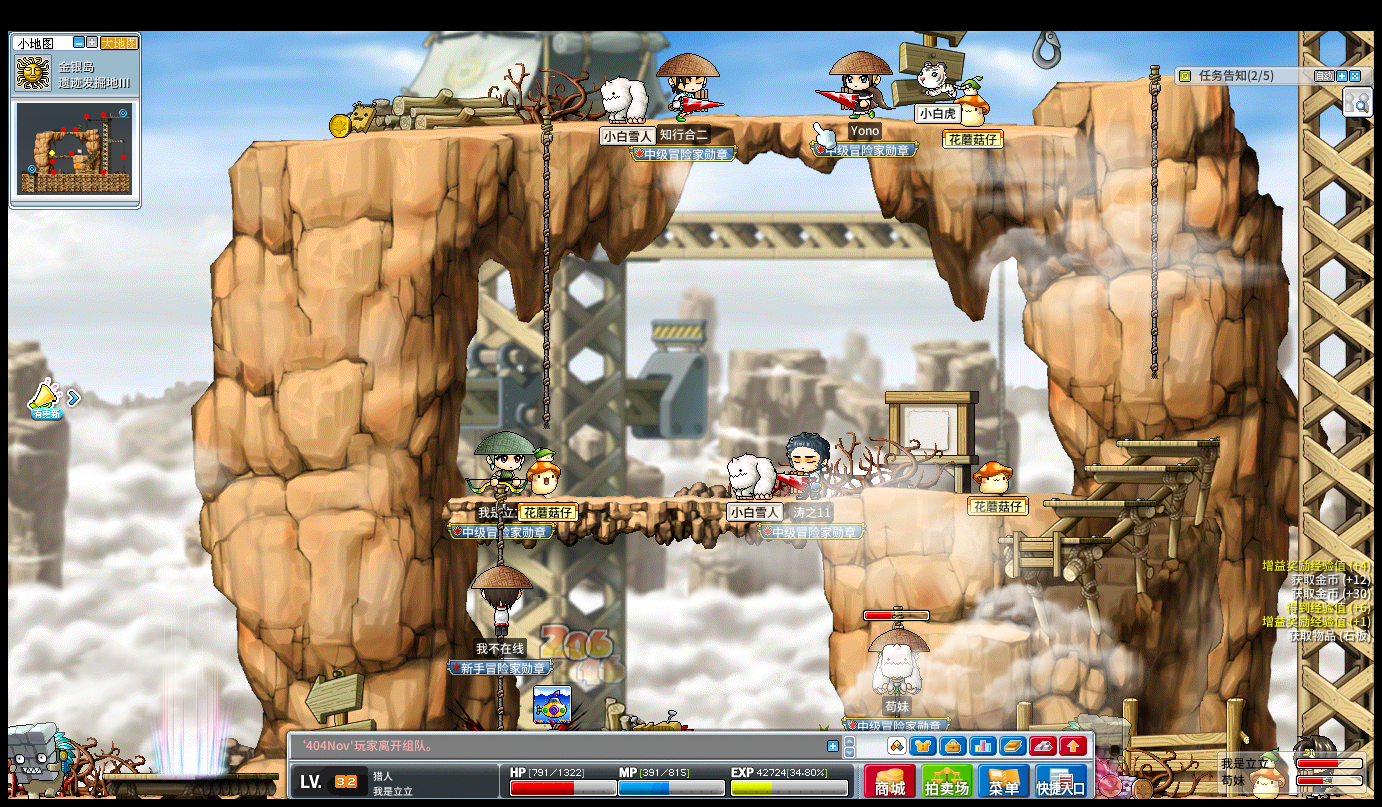floor: (239, 109, 1050, 143), (451, 495, 822, 505), (913, 622, 1029, 643), (1051, 73, 1178, 88), (994, 536, 1111, 550), (924, 489, 1079, 498), (995, 533, 1109, 544), (1112, 438, 1218, 447), (1078, 463, 1195, 471), (1041, 498, 1155, 506)
monster: (6, 721, 75, 795)
rope: (1146, 53, 1161, 379), (539, 112, 551, 423), (494, 499, 504, 565)
